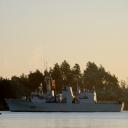Fragata: (6, 66, 126, 115)
